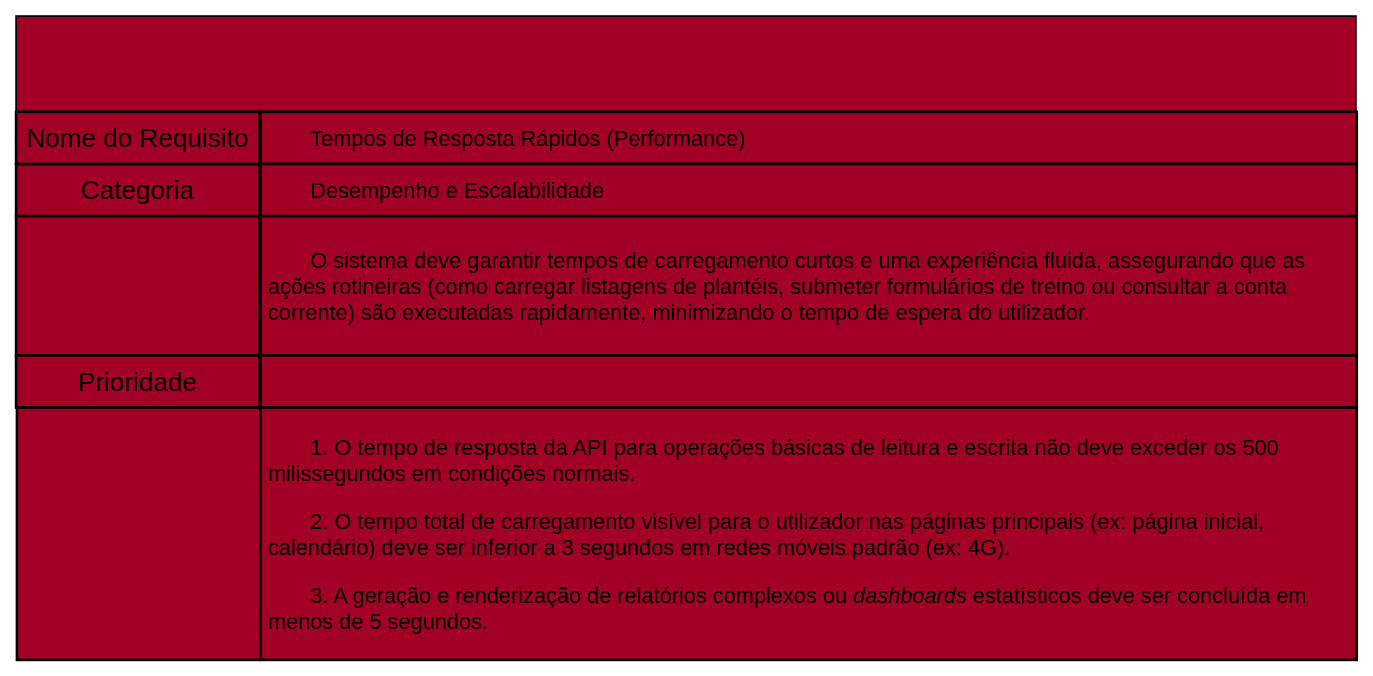
Image size: 1373x676. Some labels were removed from this diagram. The box of each missing label's shape, as (x1, y1, x2, y2) in pixels:
Alta: (259, 354, 1358, 408)
Critério de Verificação: (15, 406, 261, 661)
Descrição: (14, 214, 261, 356)
RNF-06: (15, 15, 1356, 112)
